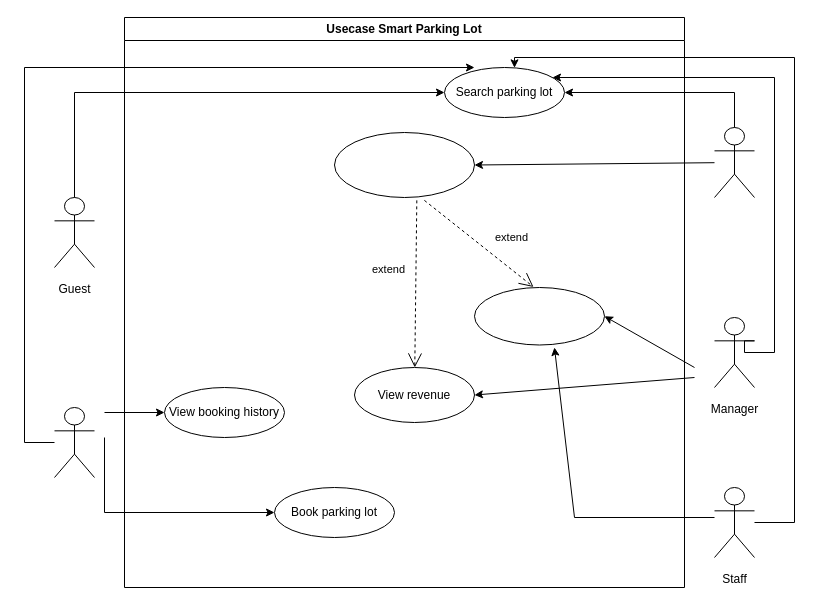
Image size: 820x605. Some labels were removed from this diagram. Here are the shapes that lost their labels. From the top down, the box of each, then its label:
(334, 132, 474, 198): Manage parking lot list
(714, 126, 754, 198): Admin
(474, 286, 604, 345): Manage parking lot
(54, 406, 94, 478): Customer
